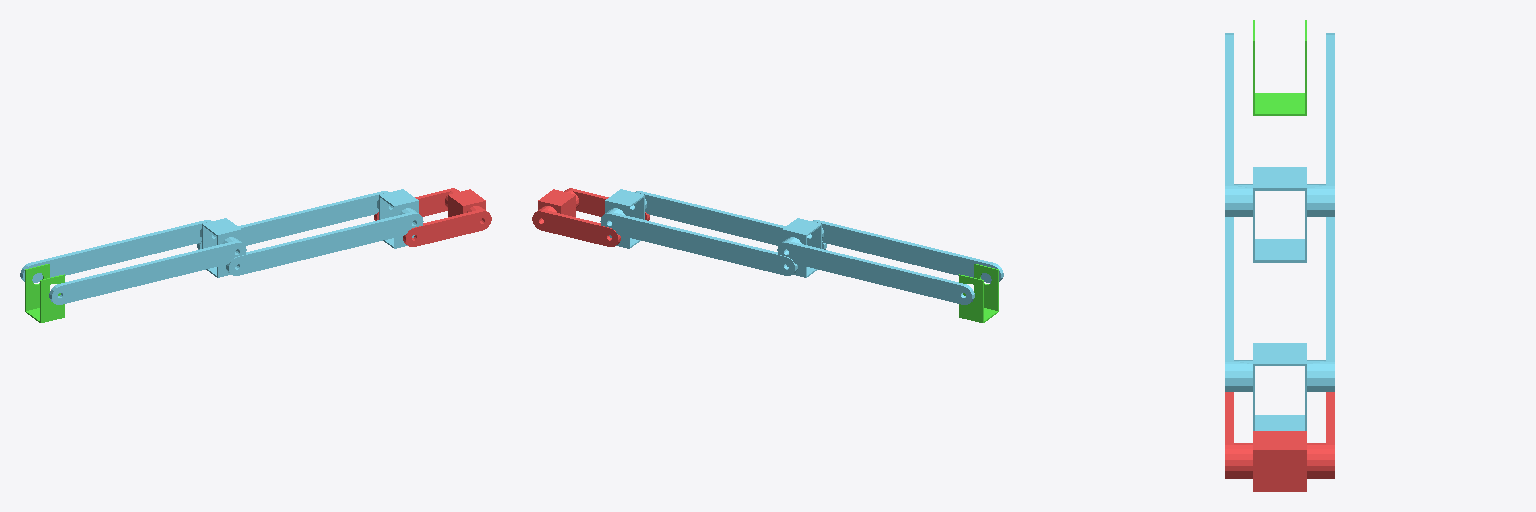
The robot description file, URDF, robot "arm_v1":
<?xml version="1.0" encoding="utf-8"?>
<!-- This URDF was automatically created by SolidWorks to URDF Exporter! Originally created by Stephen Brawner (brawner@gmail.com) 
     Commit Version: 1.6.0-4-g7f85cfe  Build Version: 1.6.7995.38578
     For more information, please see http://wiki.ros.org/sw_urdf_exporter -->
<robot
  name="arm_v1">
  <link
    name="base_link">
    <inertial>
      <origin
        xyz="0 4.3368E-18 0.02641"
        rpy="0 0 0" />
      <mass
        value="0.018197" />
      <inertia
        ixx="1.7645E-05"
        ixy="-2.3082E-21"
        ixz="-8.1521E-22"
        iyy="1.2785E-05"
        iyz="-1.2074E-21"
        izz="1.0873E-05" />
    </inertial>
    <visual>
      <origin
        xyz="0 0 0"
        rpy="0 0 0" />
      <geometry>
        <mesh
          filename="package://arm_v1/meshes/base_link.STL" />
      </geometry>
      <material
        name="">
        <color
          rgba="0.41176 1 0.34118 1" />
      </material>
    </visual>
    <collision>
      <origin
        xyz="0 0 0"
        rpy="0 0 0" />
      <geometry>
        <mesh
          filename="package://arm_v1/meshes/base_link.STL" />
      </geometry>
    </collision>
  </link>
  <link
    name="long1_link">
    <inertial>
      <origin
        xyz="0.18502 0.048 -0.00093286"
        rpy="0 0 0" />
      <mass
        value="0.20903" />
      <inertia
        ixx="0.00038821"
        ixy="8.2426E-20"
        ixz="2.473E-05"
        iyy="0.0023863"
        iyz="-5.6847E-20"
        izz="0.0027026" />
    </inertial>
    <visual>
      <origin
        xyz="0 0 0"
        rpy="0 0 0" />
      <geometry>
        <mesh
          filename="package://arm_v1/meshes/long1_link.STL" />
      </geometry>
      <material
        name="">
        <color
          rgba="0.57647 0.91373 1 1" />
      </material>
    </visual>
    <collision>
      <origin
        xyz="0 0 0"
        rpy="0 0 0" />
      <geometry>
        <mesh
          filename="package://arm_v1/meshes/long1_link.STL" />
      </geometry>
    </collision>
  </link>
  <joint
    name="long1_joint"
    type="revolute">
    <origin
      xyz="0 -0.048 0.052"
      rpy="0 0 0" />
    <parent
      link="base_link" />
    <child
      link="long1_link" />
    <axis
      xyz="0 1 0" />
    <limit
      lower="-1.5"
      upper="0"
      effort="0"
      velocity="0" />
    <dynamics
      damping="0.1"
      friction="0.25" />
  </joint>
  <link
    name="long2_link">
    <inertial>
      <origin
        xyz="0.18502 0.048 -0.00093286"
        rpy="0 0 0" />
      <mass
        value="0.20903" />
      <inertia
        ixx="0.00038821"
        ixy="-3.5742E-20"
        ixz="2.473E-05"
        iyy="0.0023863"
        iyz="4.0215E-20"
        izz="0.0027026" />
    </inertial>
    <visual>
      <origin
        xyz="0 0 0"
        rpy="0 0 0" />
      <geometry>
        <mesh
          filename="package://arm_v1/meshes/long2_link.STL" />
      </geometry>
      <material
        name="">
        <color
          rgba="0.57647 0.91373 1 1" />
      </material>
    </visual>
    <collision>
      <origin
        xyz="0 0 0"
        rpy="0 0 0" />
      <geometry>
        <mesh
          filename="package://arm_v1/meshes/long2_link.STL" />
      </geometry>
    </collision>
  </link>
  <joint
    name="long2_joint"
    type="revolute">
    <origin
      xyz="0.312 0 -0.024"
      rpy="0 0 0" />
    <parent
      link="long1_link" />
    <child
      link="long2_link" />
    <axis
      xyz="0 1 0" />
    <limit
      lower="0"
      upper="2.6"
      effort="0"
      velocity="0" />
    <dynamics
      damping="0.1"
      friction="0.25" />
  </joint>
  <link
    name="short_link">
    <inertial>
      <origin
        xyz="0.094366 0.048 0"
        rpy="0 0 0" />
      <mass
        value="0.16805" />
      <inertia
        ixx="0.00019557"
        ixy="-5.5658E-20"
        ixz="-3.9919E-21"
        iyy="0.00030008"
        iyz="-2.8951E-21"
        izz="0.00045986" />
    </inertial>
    <visual>
      <origin
        xyz="0 0 0"
        rpy="0 0 0" />
      <geometry>
        <mesh
          filename="package://arm_v1/meshes/short_link.STL" />
      </geometry>
      <material
        name="">
        <color
          rgba="1 0.38431 0.38431 1" />
      </material>
    </visual>
    <collision>
      <origin
        xyz="0 0 0"
        rpy="0 0 0" />
      <geometry>
        <mesh
          filename="package://arm_v1/meshes/short_link.STL" />
      </geometry>
    </collision>
  </link>
  <joint
    name="short_joint"
    type="revolute">
    <origin
      xyz="0.312 0 -0.024"
      rpy="0 0 0" />
    <parent
      link="long2_link" />
    <child
      link="short_link" />
    <axis
      xyz="0 1 0" />
    <limit
      lower="0"
      upper="2.6"
      effort="0"
      velocity="0" />
    <dynamics
      damping="0.1"
      friction="0.25" />
  </joint>
</robot>

--- Facts derived from the render (not from the file) ---
The picture shows the robot from 3 angles, left to right: view 1: azimuth 30°, elevation 25°; view 2: azimuth 150°, elevation 25°; view 3: azimuth 270°, elevation 25°; orthographic projection.
Model arm_v1 with 4 links and 3 joints (3 revolute), rooted at base_link, posed all joints at 0.
Links seen in each view (by area): view 1: long1_link, long2_link, short_link, base_link; view 2: long1_link, long2_link, short_link, base_link; view 3: long1_link, long2_link, short_link, base_link.
Link boxes in pixels (x1=…): long1_link: x1=20, y1=218, x2=246, y2=304; long2_link: x1=197, y1=189, x2=423, y2=275; short_link: x1=374, y1=188, x2=491, y2=246; base_link: x1=25, y1=264, x2=64, y2=322; long1_link: x1=777, y1=218, x2=1003, y2=304; long2_link: x1=600, y1=189, x2=826, y2=275; short_link: x1=532, y1=188, x2=649, y2=246; base_link: x1=959, y1=264, x2=998, y2=322; long1_link: x1=1225, y1=33, x2=1334, y2=262; long2_link: x1=1225, y1=217, x2=1334, y2=430; short_link: x1=1225, y1=392, x2=1334, y2=491; base_link: x1=1253, y1=20, x2=1306, y2=115.
Bounding box of the posed robot: 0.7855 × 0.096 × 0.096 m (x, y, z).
4 mesh visuals loaded from 4 distinct referenced files (4 binary STL).
